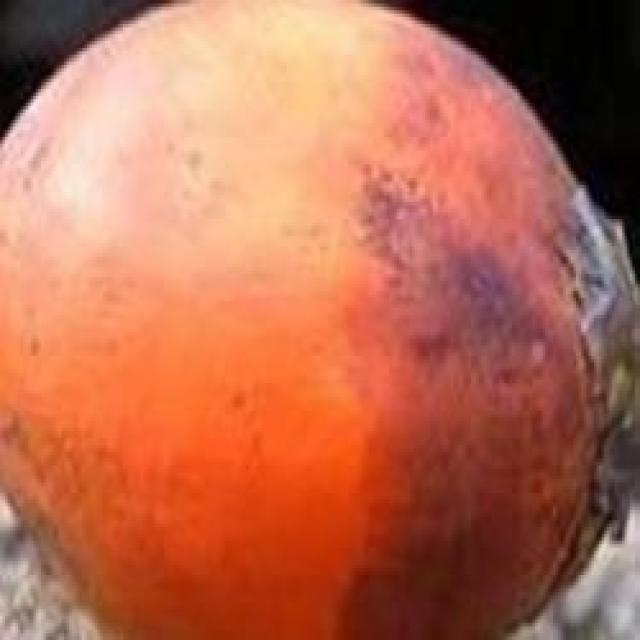good: (0, 0, 637, 637)
